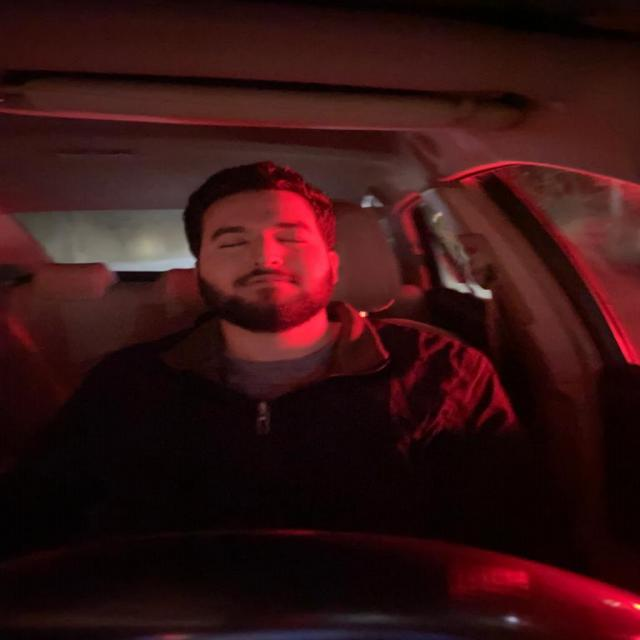drowsy: (179, 152, 354, 331)
